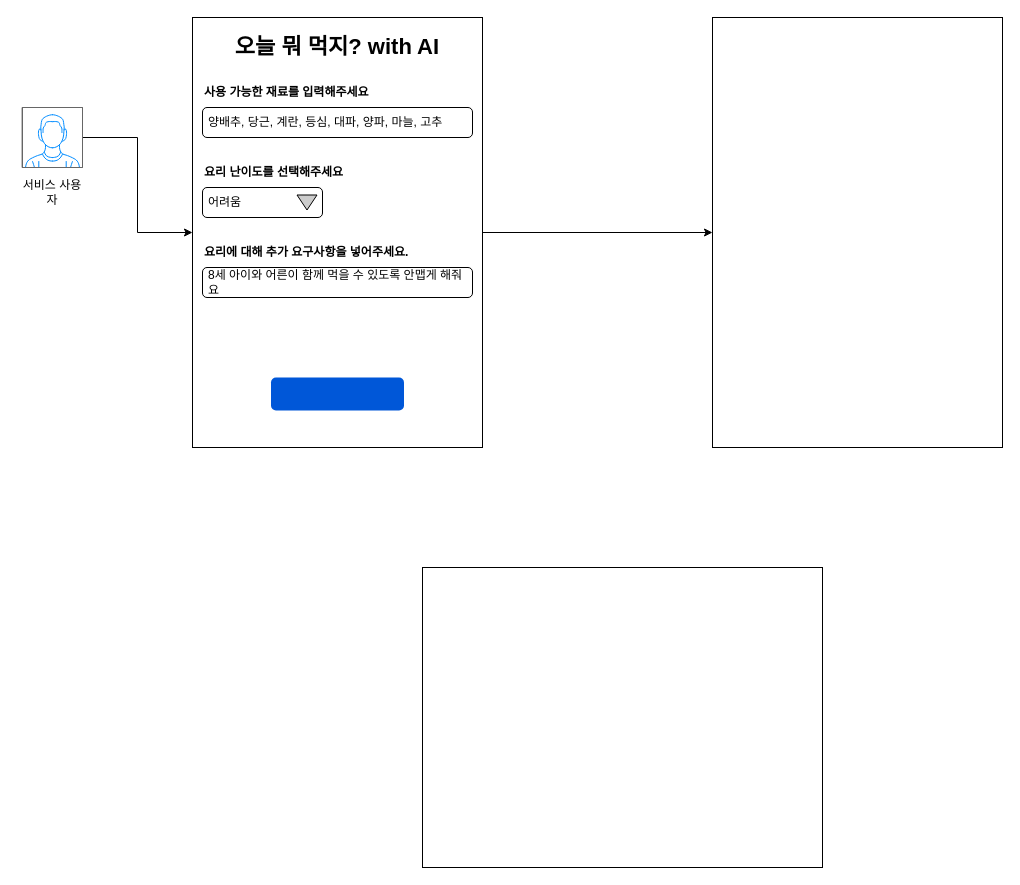
This 1020x885 diagram has some shape labels left out. The shapes that lost their labels are listed below. From the top down, each one's centre as x and y in pixels, then its label:
(857,232): .... AI가 당신에게 추천할 요리 레시피를 준비하고 있어요
(337,393): 레시피 추천 with AI
